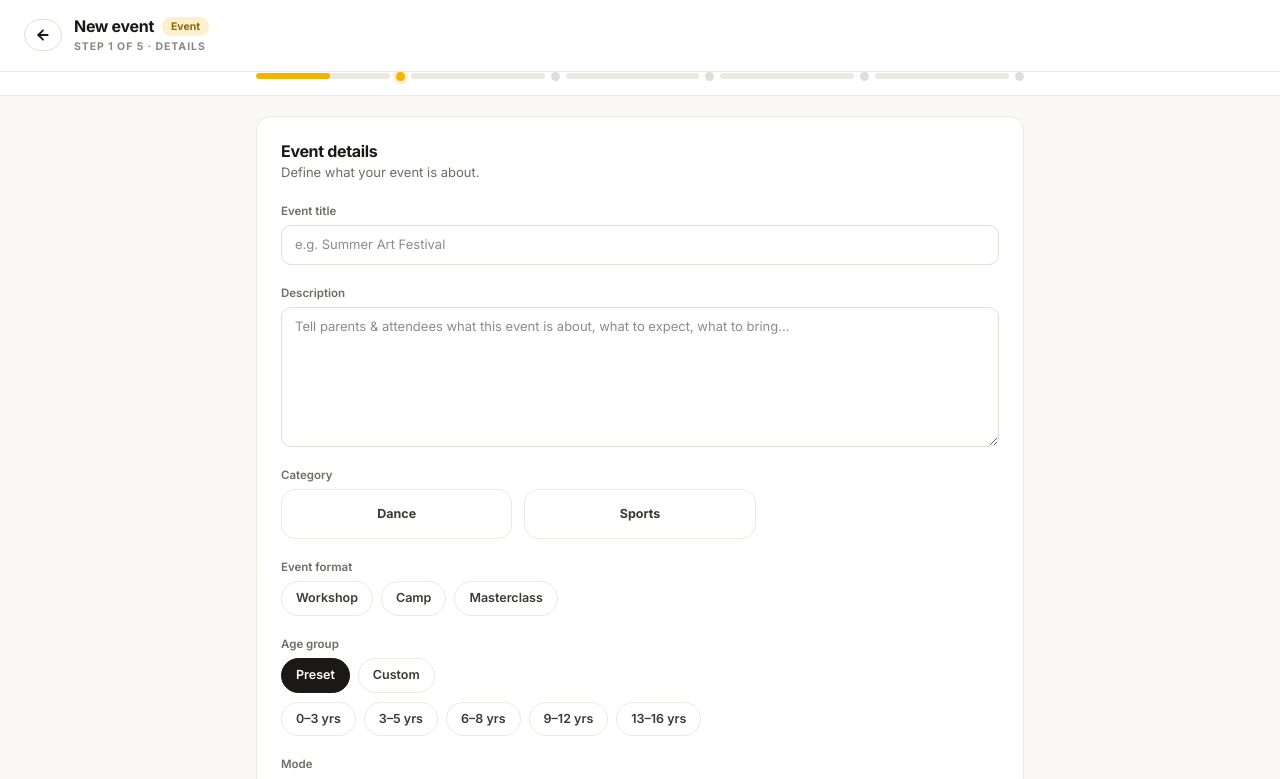
Test: CreateEventDetails — form interactions › selects a category and shows its subcategories
Expected: the text "Dance" is shown, 377,506 -> 416,522
Click the button "Dance".
click(397, 514)  # box 281,489 -> 512,539
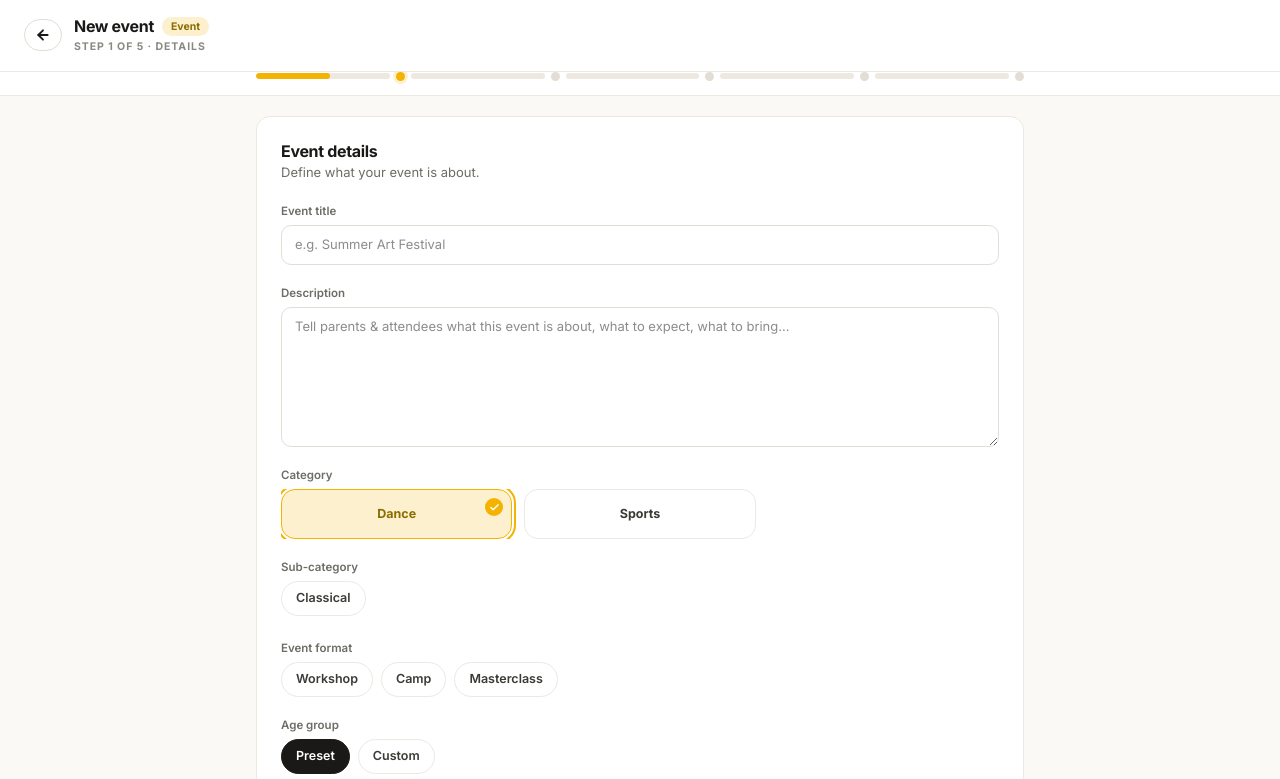
Result: the button "Classical" is shown at 281,581 -> 366,616
